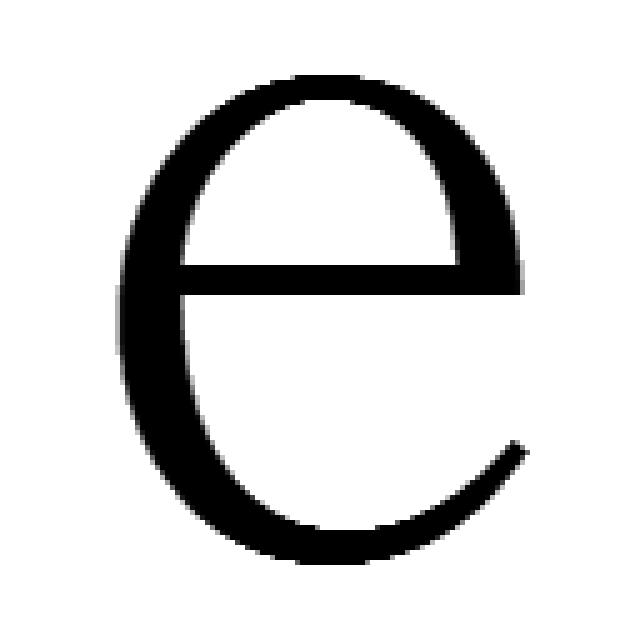E: (120, 75, 530, 570)
